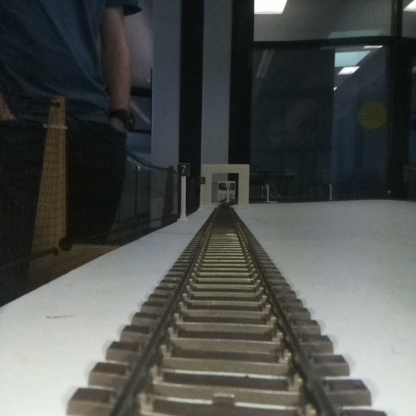black-info-7: (178, 163, 189, 220)
